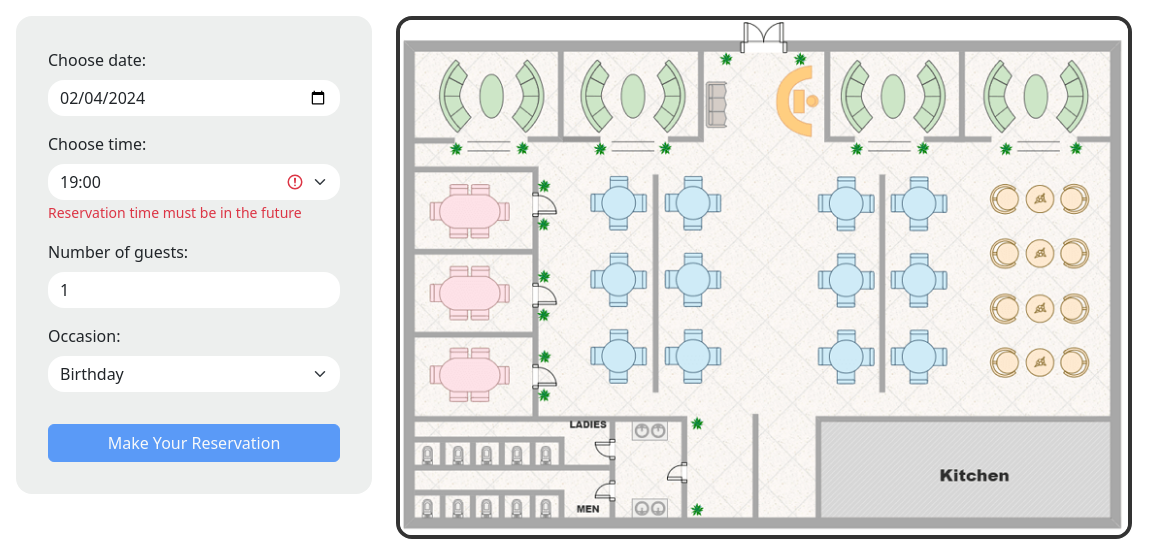
Test: The selected time is required
Note: Simulate a change event with an empty value
Step 1. Select "" in the dropdown labelled "Choose time:" → x=194, y=182, box [48,164,340,200]
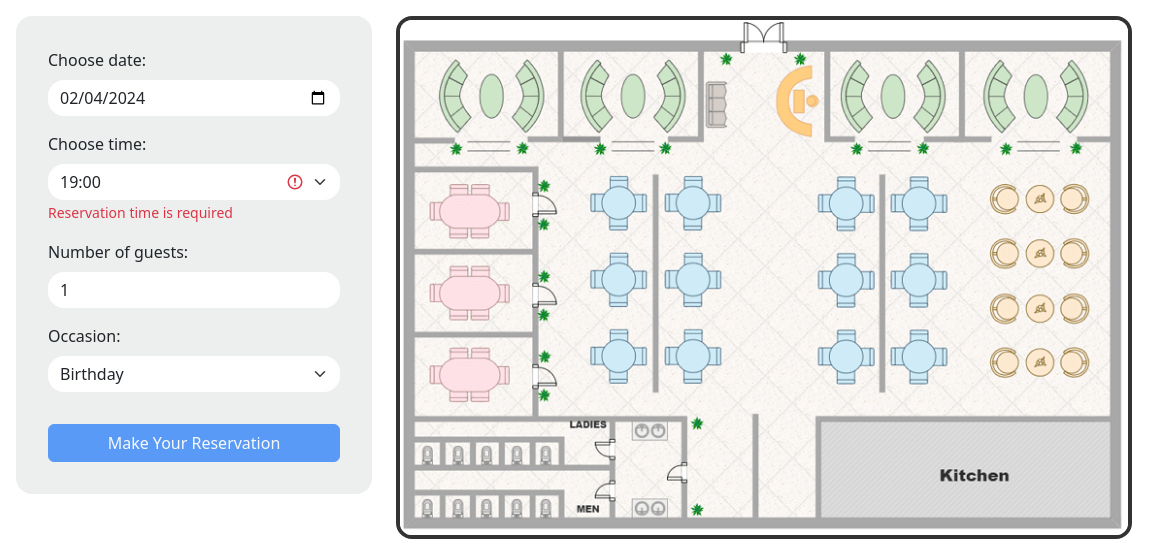
Expected: the text "Reservation time is required" is shown, [48,203,233,222]
